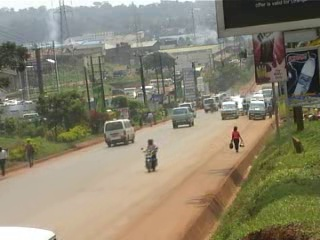Car: (229, 95, 244, 120)
Motorcycle: (140, 136, 160, 174), (207, 97, 218, 115)
